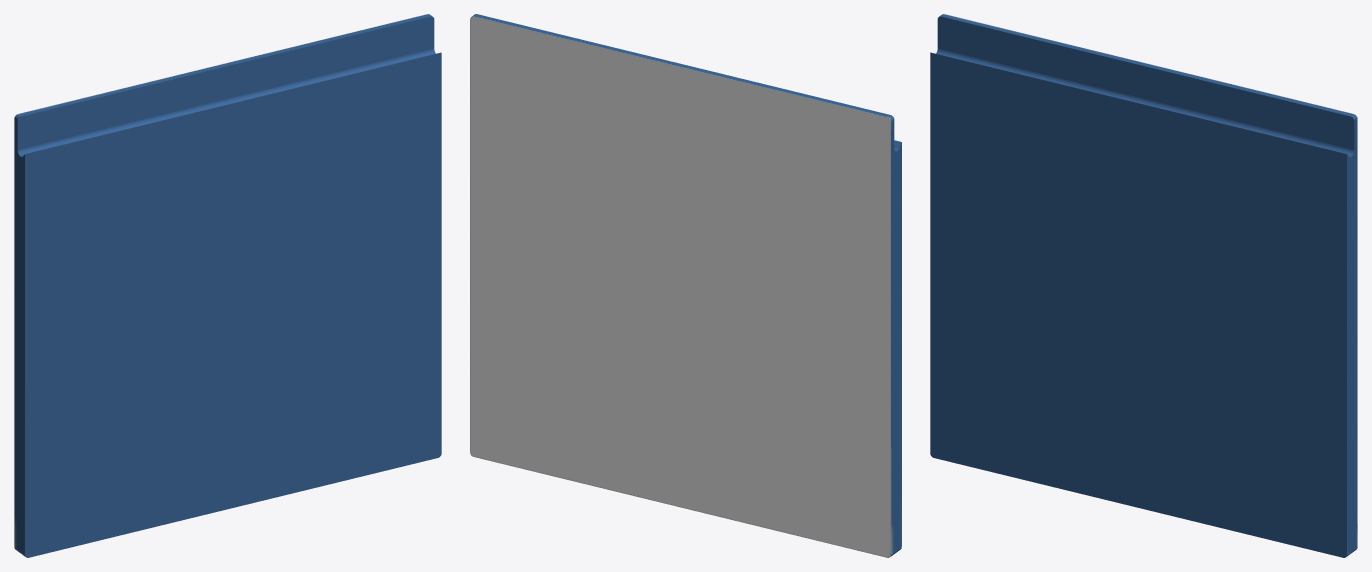
3 renders of one model, left to right at view 1: azimuth 30°, elevation 25°; view 2: azimuth 150°, elevation 25°; view 3: azimuth 330°, elevation 25°, orthographic.
Visible parts, largest first — view 1: node_id3; view 2: node_id3; view 3: node_id3.
Boxes of the visible parts, <box> form: node_id3: <box>14,14,441,557</box>; node_id3: <box>470,14,901,557</box>; node_id3: <box>930,14,1357,557</box>.
Size of the model in its own units: 0.512 by 0.512 by 0.023.
1 material, 1 textured.
